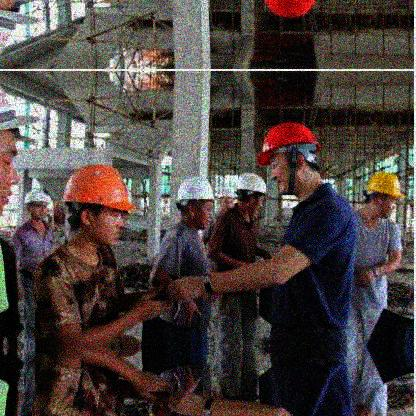helmet: (60, 164, 137, 253), (255, 122, 321, 198), (364, 171, 408, 222), (174, 176, 214, 230), (235, 174, 266, 219), (24, 189, 52, 221)
